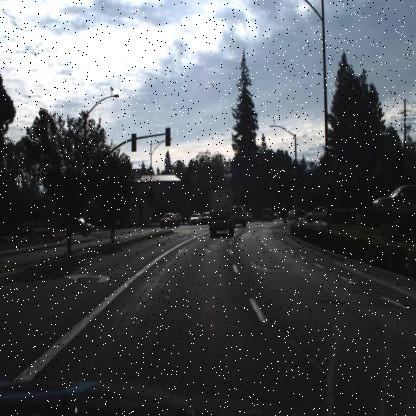car: (205, 184, 239, 240), (371, 182, 415, 218), (61, 213, 95, 236), (65, 216, 94, 236), (303, 203, 330, 224), (230, 204, 246, 230), (158, 210, 179, 228), (258, 205, 273, 223), (187, 210, 202, 227), (285, 205, 298, 223)
truck: (207, 185, 234, 240)
